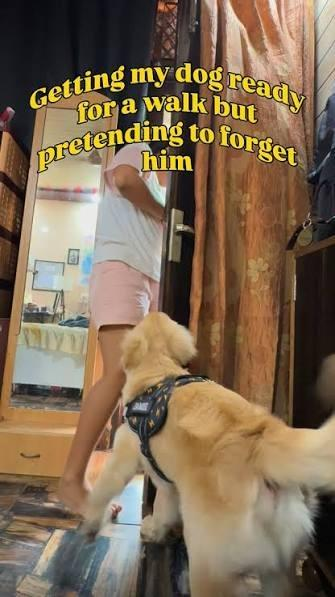adult_dog: (69, 309, 335, 589)
non-dog: (55, 87, 172, 527)
